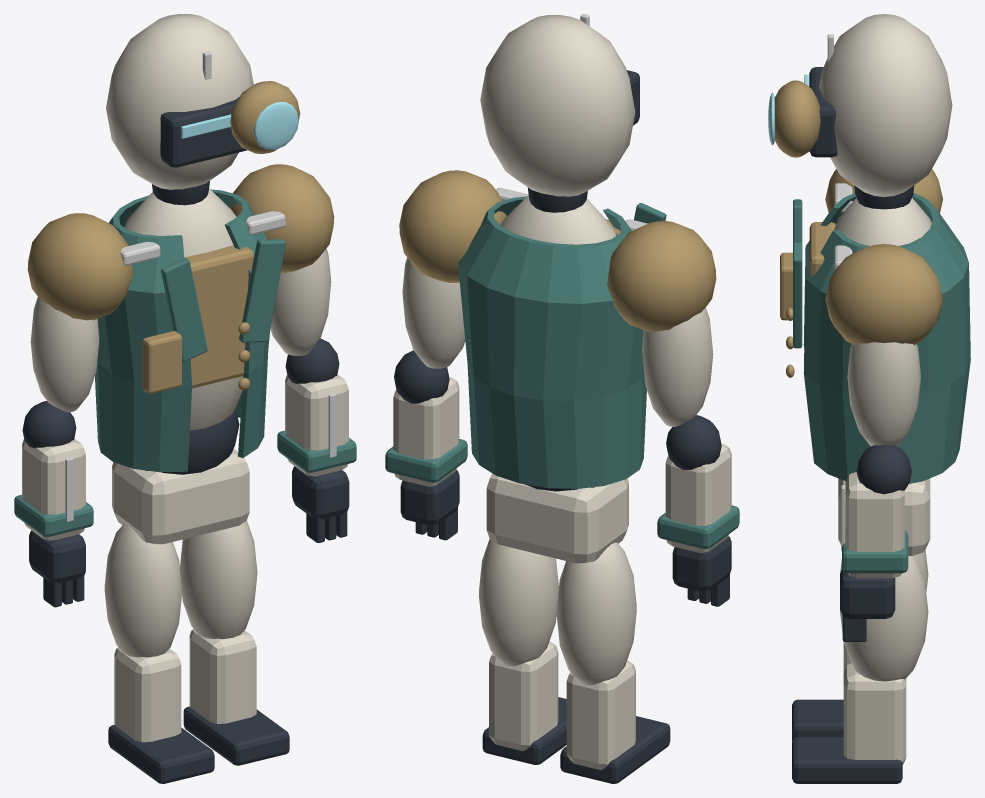
File: reader.glb
3 renders of one model, left to right at view 1: azimuth 30°, elevation 25°; view 2: azimuth 150°, elevation 25°; view 3: azimuth 270°, elevation 25°, orthographic. The views are drawn at different scales.
Parts seen in each view (by area): view 1: Scholar waistcoat, Helmet, Pelvis, Shoulder R, Thigh R, Thigh L, Sternum shield, Shoulder L, Articulated thorax, Upper arm R, Shin R, Shin L (+22 smaller); view 2: Scholar waistcoat, Helmet, Pelvis, Shoulder R, Thigh R, Thigh L, Shoulder L, Upper arm R, Shin R, Shin L, Upper arm L, Bracer L (+11 smaller); view 3: Scholar waistcoat, Helmet, Shoulder L, Upper arm L, Thigh L, Shin L, Bracer L, Foot L, Articulated thorax, Optical reading lens, Hand L, Elbow L (+11 smaller).
Boxes of the visible parts, box(x1,y1,x2,y2) form: Scholar waistcoat: box(95, 189, 270, 472); Helmet: box(106, 14, 253, 189); Pelvis: box(112, 449, 249, 544); Shoulder R: box(27, 213, 133, 320); Thigh R: box(104, 524, 181, 657); Thigh L: box(180, 520, 257, 638); Sternum shield: box(184, 245, 254, 388); Shoulder L: box(230, 164, 334, 273); Articulated thorax: box(124, 188, 243, 430); Upper arm R: box(30, 297, 99, 412); Shin R: box(114, 647, 181, 742); Shin L: box(189, 629, 256, 723); Scholar waistcoat: box(458, 196, 646, 488); Helmet: box(480, 15, 635, 196); Pelvis: box(486, 473, 628, 563); Shoulder R: box(607, 221, 716, 331); Thigh R: box(556, 542, 636, 685); Thigh L: box(479, 539, 558, 666); Shoulder L: box(399, 170, 506, 282); Upper arm R: box(642, 307, 713, 426); Shin R: box(566, 660, 635, 769); Shin L: box(489, 641, 558, 751); Upper arm L: box(402, 257, 465, 368); Bracer L: box(393, 377, 459, 486); Scholar waistcoat: box(803, 192, 970, 483); Helmet: box(819, 14, 952, 196); Shoulder L: box(825, 244, 942, 345); Upper arm L: box(847, 342, 920, 446); Thigh L: box(840, 555, 928, 681); Shin L: box(843, 663, 906, 764); Bracer L: box(845, 472, 904, 578); Foot L: box(792, 737, 902, 783); Articulated thorax: box(834, 197, 931, 245); Optical reading lens: box(775, 80, 820, 157); Hand L: box(840, 569, 895, 618); Elbow L: box(856, 445, 911, 494).
Size of the model in its own units: 1 by 2.2 by 0.55.
